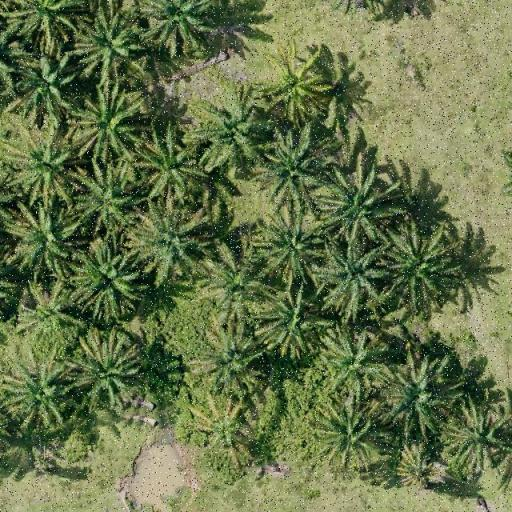Ganoderma: (271, 65, 313, 104), (206, 414, 243, 448)
